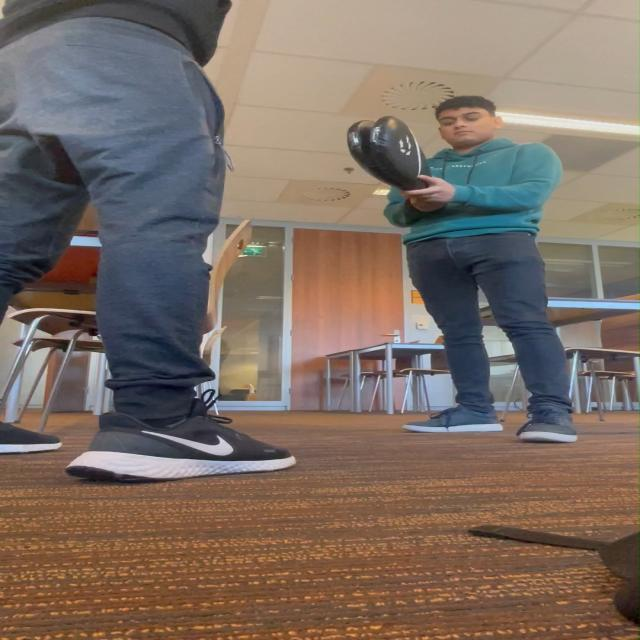paddle: (349, 118, 436, 190)
